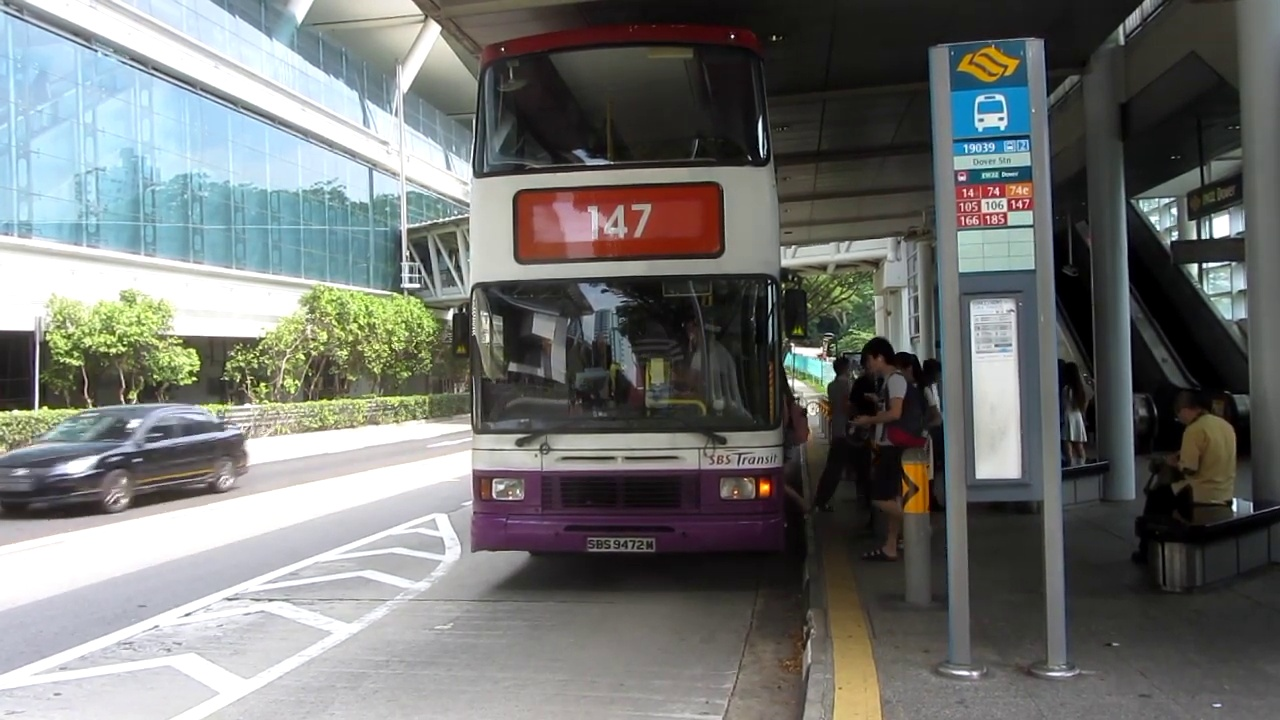bus panel: (510, 179, 727, 267)
